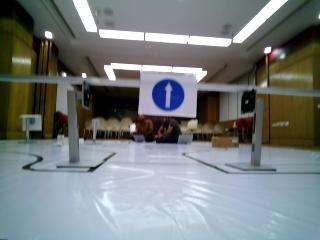straight: (142, 71, 201, 116)
